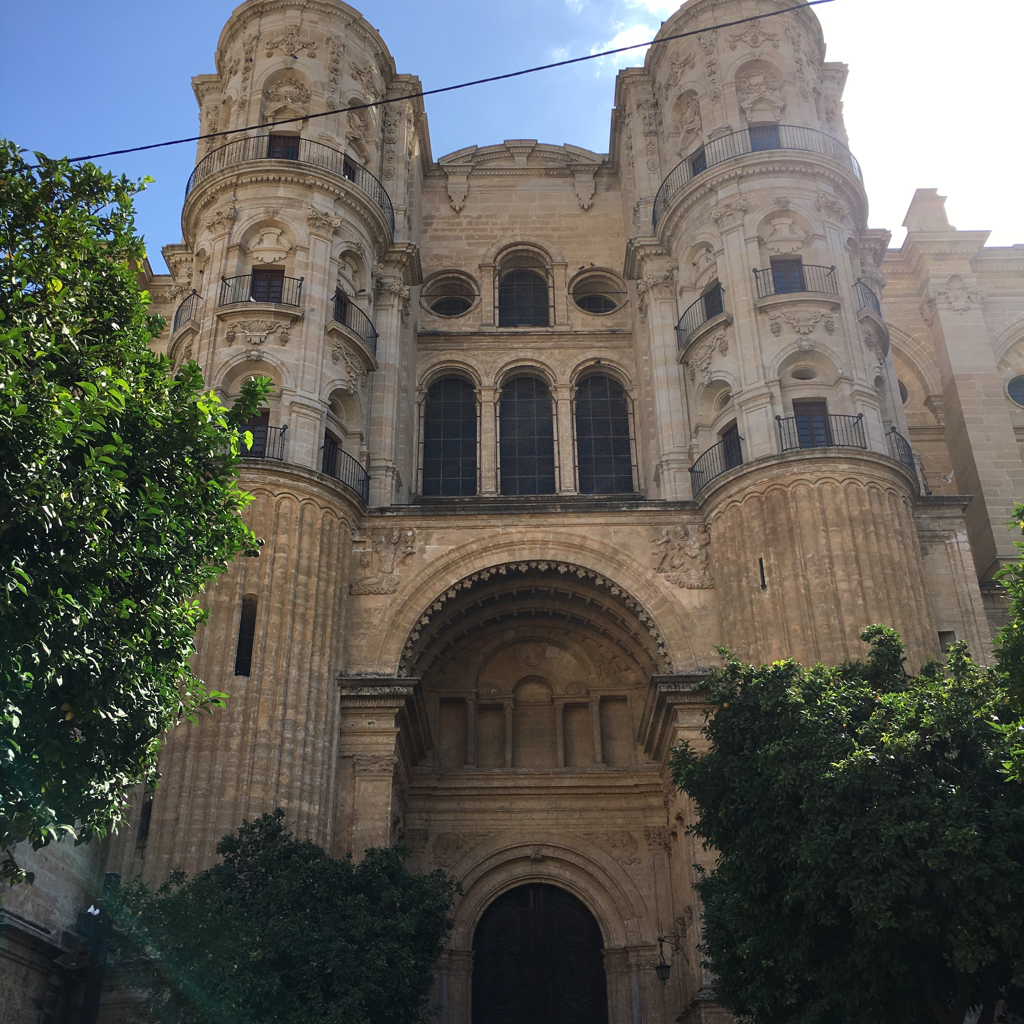arco-medio-punto: (387, 551, 688, 737), (466, 874, 617, 971), (495, 356, 558, 403), (570, 356, 635, 400), (415, 359, 483, 401), (490, 240, 555, 280)
fronton-partido: (436, 137, 608, 172)
ojo-de-buey: (417, 267, 479, 319), (570, 264, 631, 316)
serliana: (471, 674, 598, 770)
